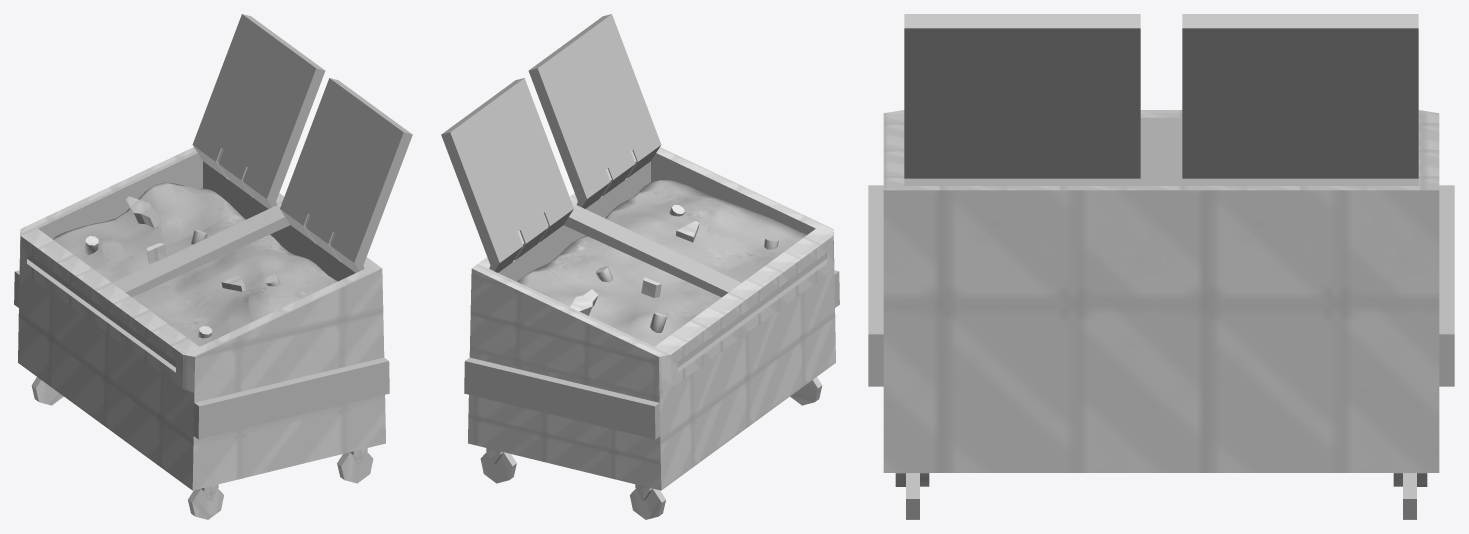
File: dumpstert White.fbx
3 views of the same model, side by side, from view 1: azimuth 30°, elevation 25°; view 2: azimuth 150°, elevation 25°; view 3: azimuth 270°, elevation 25° (orthographic). The views are drawn at different scales.
Parts seen in each view (by area): view 1: Cube; view 2: Cube; view 3: Cube.
Boxes of the visible parts, bbox=[...] form: Cube: bbox=[14, 14, 412, 519]; Cube: bbox=[441, 14, 839, 519]; Cube: bbox=[868, 14, 1454, 519].
Size of the model in its own units: 367 by 517 by 508.
